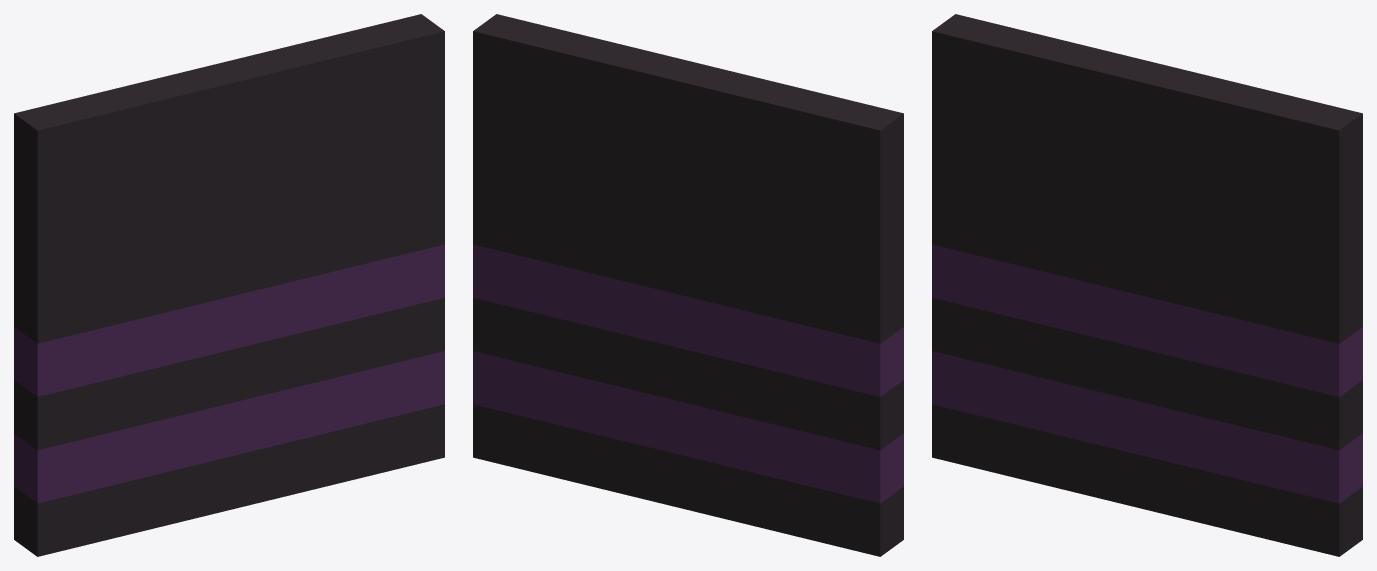
Rendered from Wall.fbx.
3 views of the same model, side by side, from view 1: azimuth 30°, elevation 25°; view 2: azimuth 150°, elevation 25°; view 3: azimuth 330°, elevation 25° (orthographic).
Visible parts, largest first — view 1: Wall; view 2: Wall; view 3: Wall.
Part boxes in pixels (bbox=[...]): Wall: bbox=[14, 14, 444, 556]; Wall: bbox=[473, 14, 903, 556]; Wall: bbox=[932, 14, 1362, 556].
Size of the model in its own units: 2000 by 2000 by 200.
